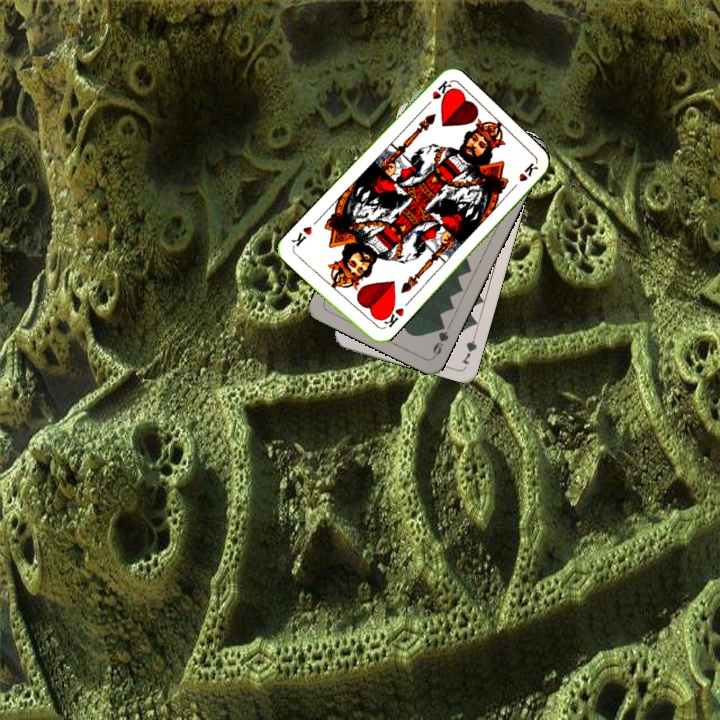G7: (457, 328, 480, 367)
G9: (429, 319, 451, 360)
HK: (419, 77, 455, 112), (377, 301, 406, 332)
